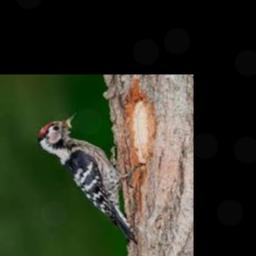Woodpecker: (36, 112, 144, 242)
